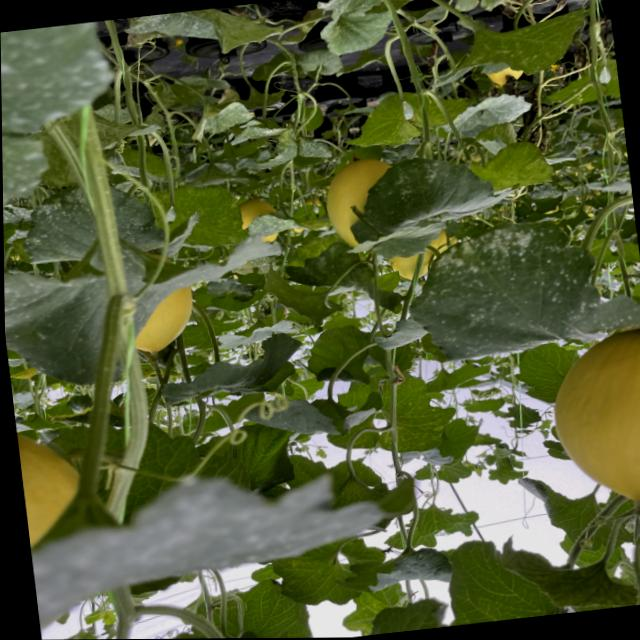healthy: (422, 540, 579, 628)
powdery mildew: (389, 213, 616, 376), (327, 146, 508, 255)
